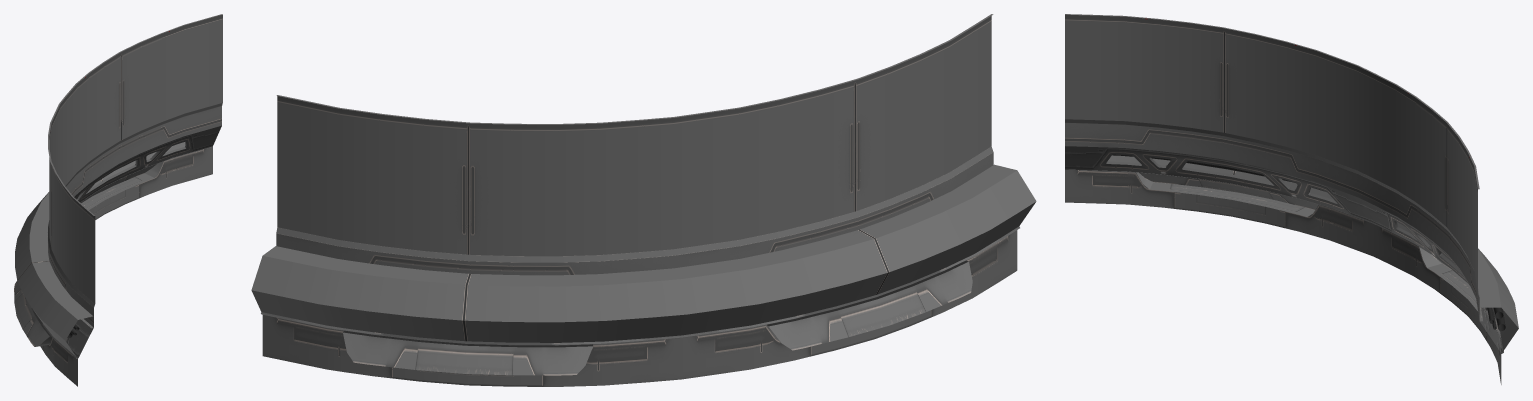
The model's file is TopCables_Corner_Round_Inner.gltf.
The picture shows the model from 3 angles, left to right: view 1: azimuth 30°, elevation 25°; view 2: azimuth 150°, elevation 25°; view 3: azimuth 270°, elevation 25°; orthographic projection. The views are drawn at different scales.
Visible parts, largest first — view 1: TopCables_Corner_Round_Inner; view 2: TopCables_Corner_Round_Inner; view 3: TopCables_Corner_Round_Inner.
Boxes of the visible parts, bbox=[...] form: TopCables_Corner_Round_Inner: bbox=[14, 14, 222, 386]; TopCables_Corner_Round_Inner: bbox=[251, 14, 1036, 386]; TopCables_Corner_Round_Inner: bbox=[1065, 14, 1518, 384].
Size of the model in its own units: 4.16 by 2 by 4.16.
4 materials, 4 textured.
